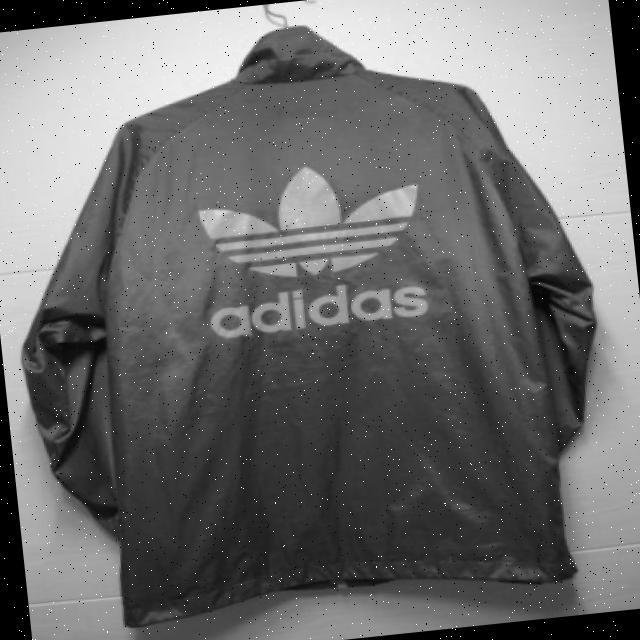Adidas: (186, 144, 435, 296)
